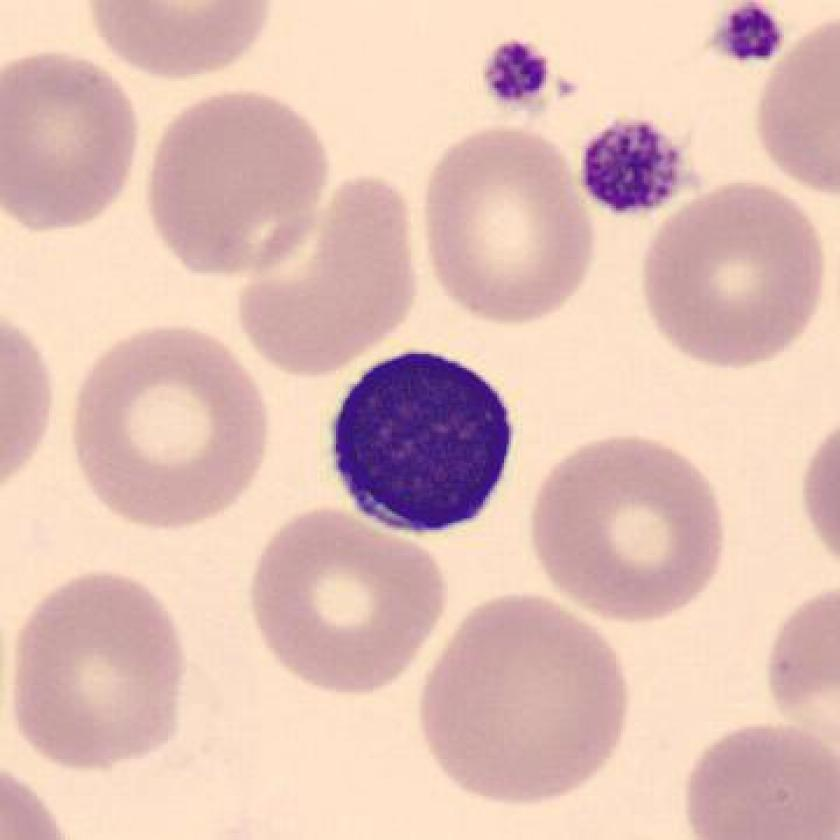lymphocyte: (318, 339, 533, 556)
